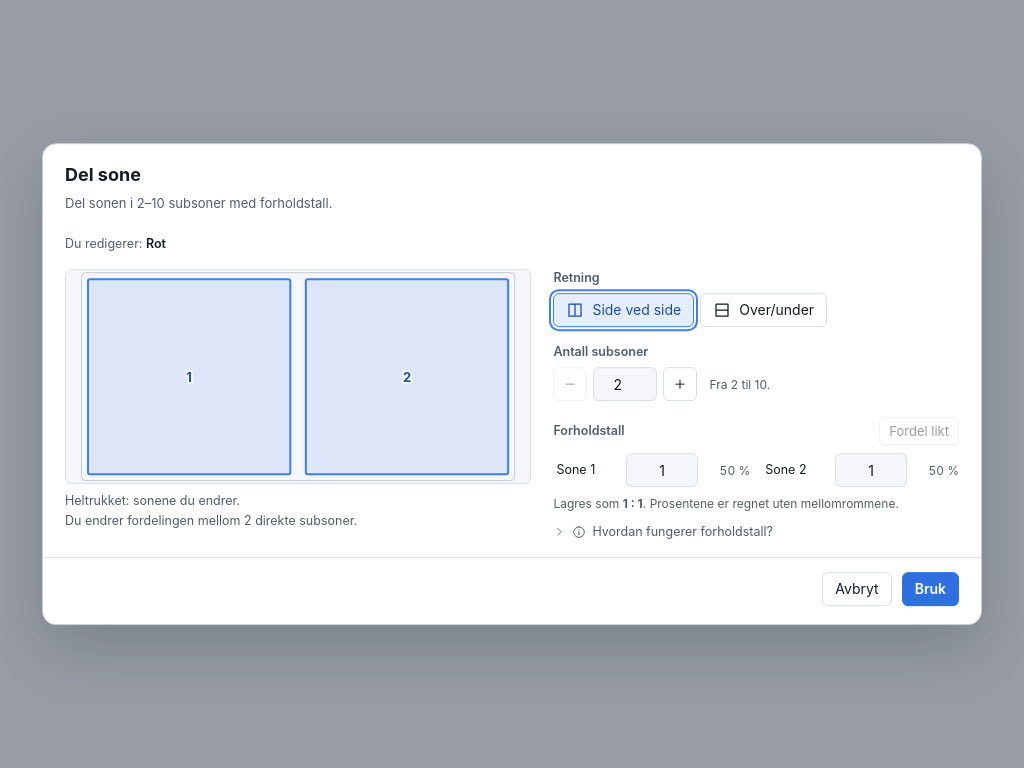
Test case: SplitModal as a draft › says a refusal at «Bruk» in the dialog, which stays as it was, until the proposal changes
Later steps or results of the test are not shown.
Click the button "Bruk": (930, 589) left=902, top=572, right=959, bottom=606
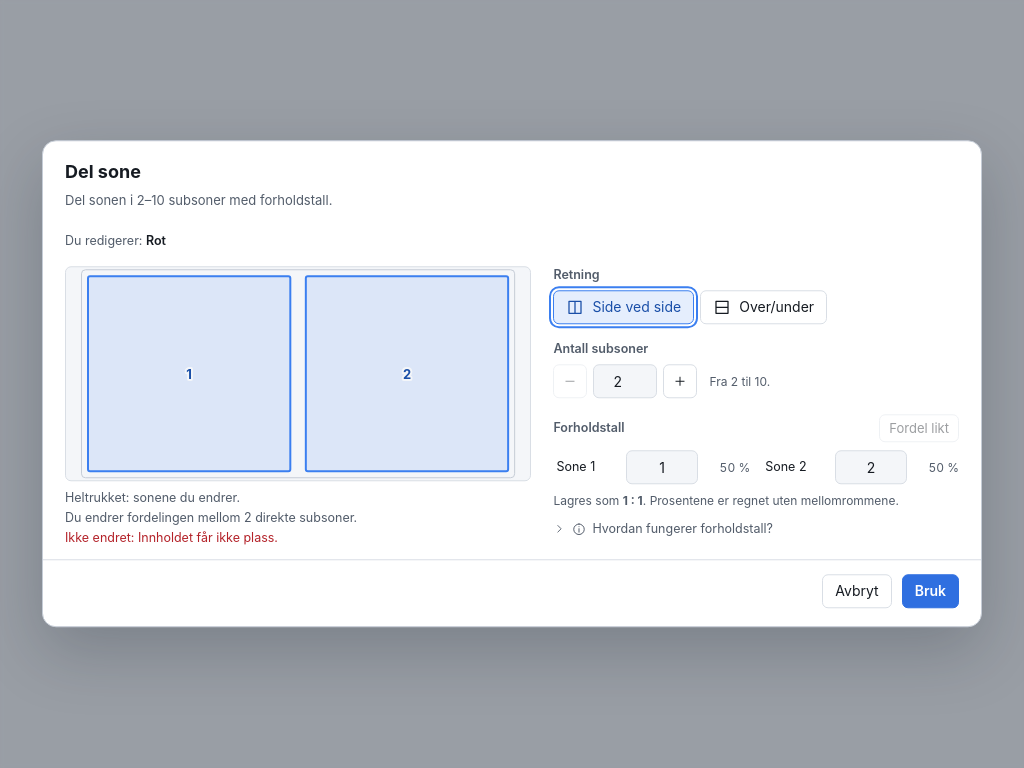
Expected: the message "Ikke endret: Innholdet får ikke plass." is shown, left=65, top=531, right=278, bottom=546
